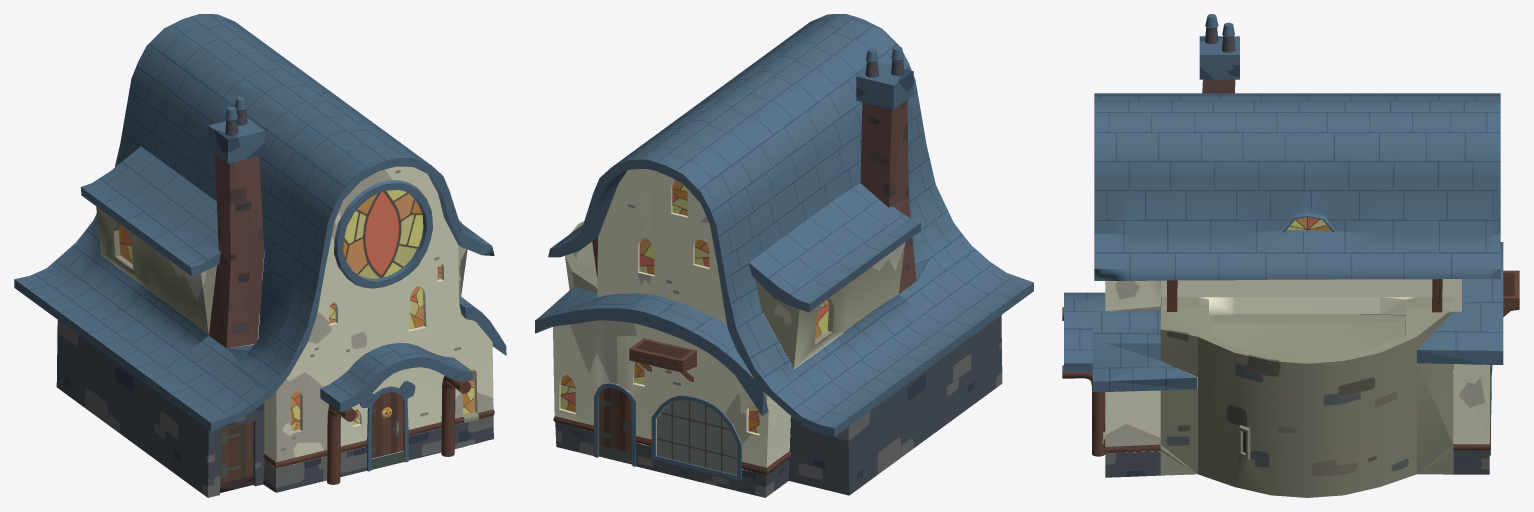
The model's file is the_owl_house.glb.
3 views of the same model, side by side, from view 1: azimuth 30°, elevation 25°; view 2: azimuth 150°, elevation 25°; view 3: azimuth 270°, elevation 25° (orthographic). The views are drawn at different scales.
Visible parts, largest first — view 1: defaultMaterial (×5); view 2: defaultMaterial (×5); view 3: defaultMaterial (×4).
Boxes of the visible parts, x1=… form: defaultMaterial (×5): x1=14, y1=14, x2=506, y2=497; defaultMaterial (×5): x1=535, y1=14, x2=1033, y2=497; defaultMaterial (×4): x1=1062, y1=14, x2=1519, y2=497.
Size of the model in its own units: 9.16 by 8.7 by 10.12.
Materials: 5 (5 with a texture image).
